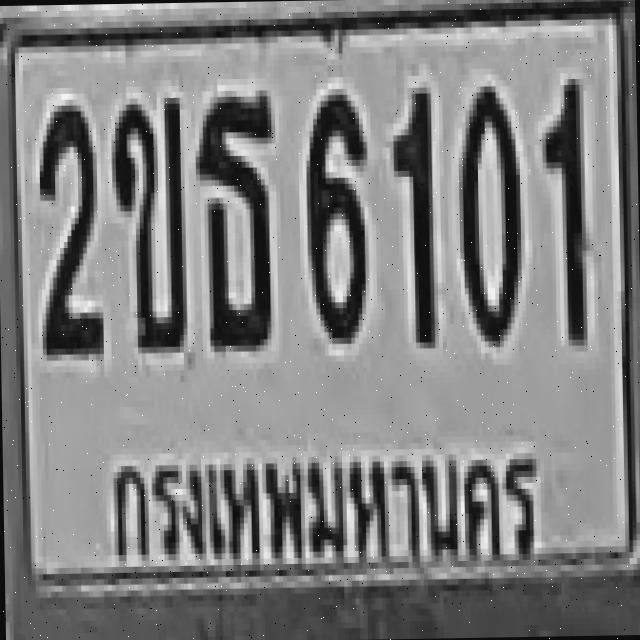0: (456, 80, 518, 341)
1: (540, 79, 584, 340), (388, 87, 431, 343)
11KhorKhai: (110, 91, 183, 348)
2: (34, 99, 100, 349)
33ThorThong: (194, 90, 274, 346)
6: (300, 89, 366, 338)
Bangkok: (86, 423, 560, 590)
